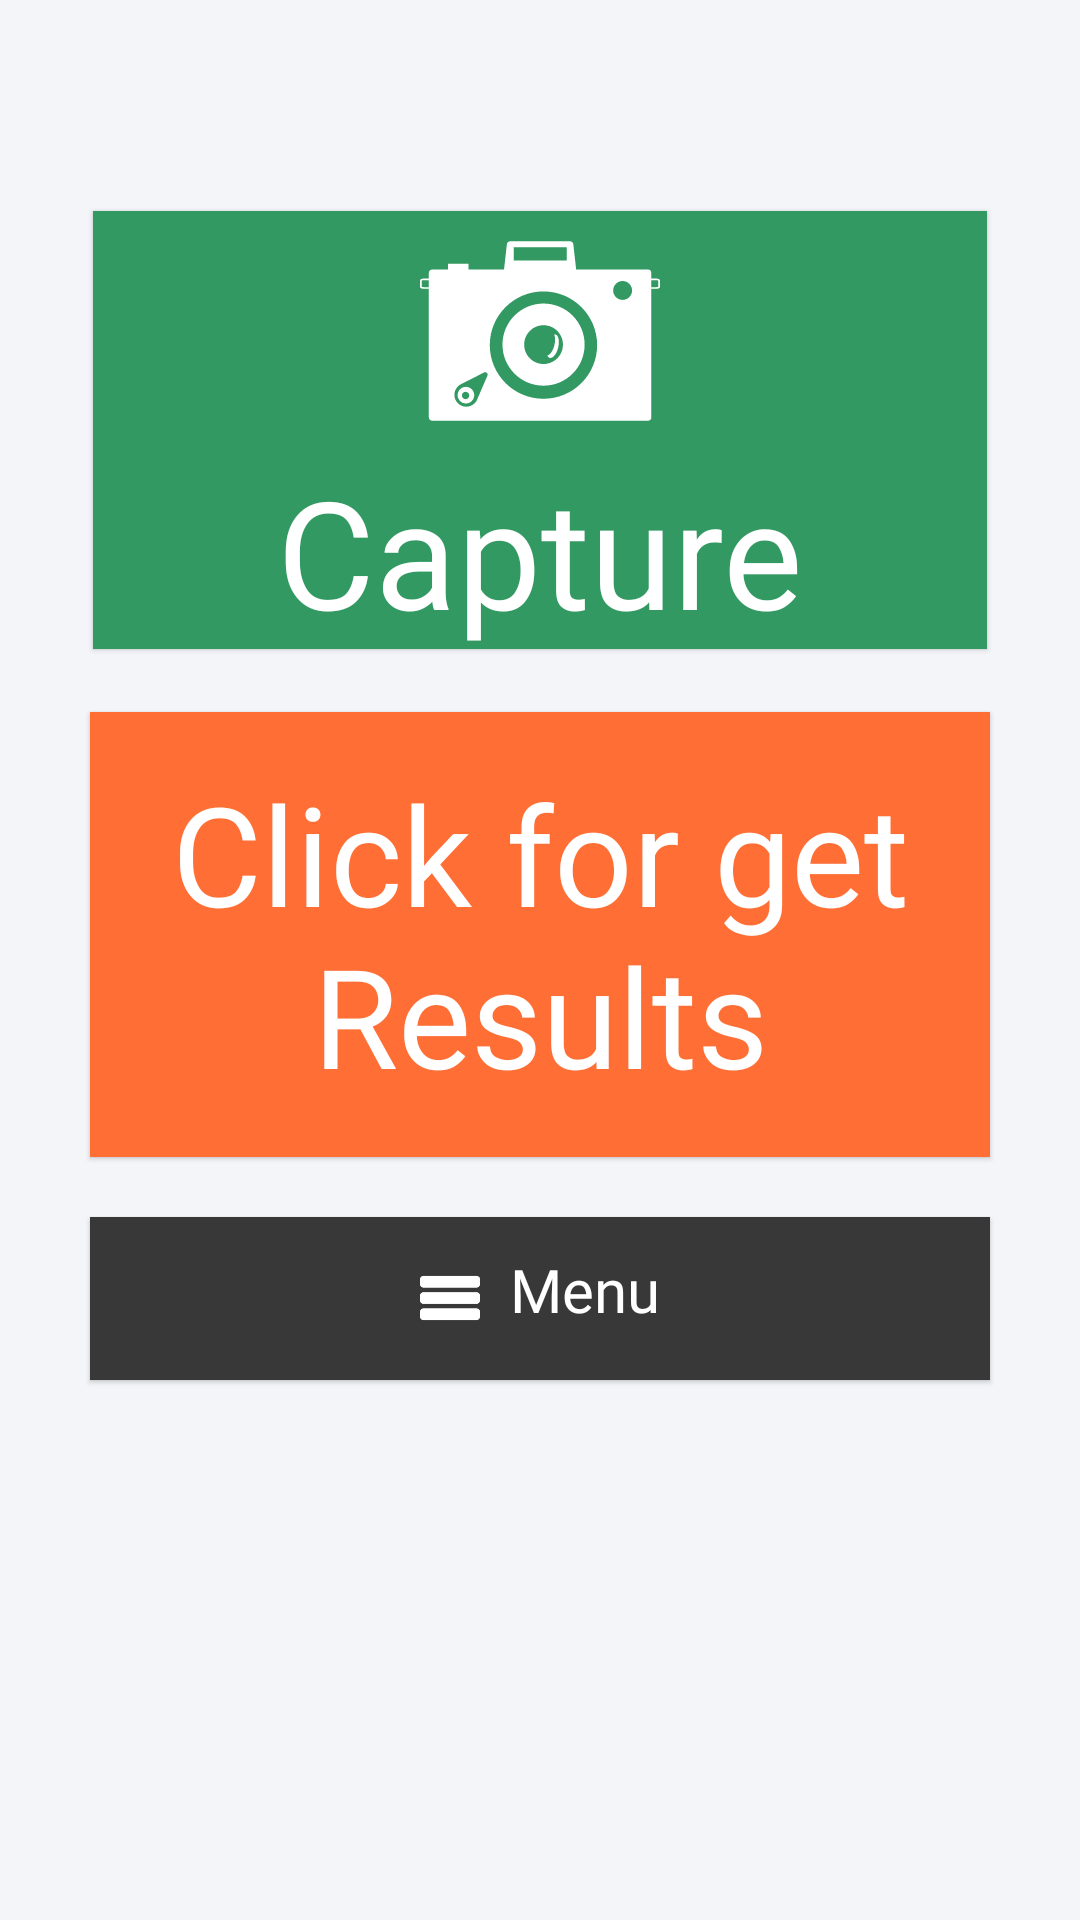

Icon bounding boxes for this 1080 x 1920 phone screenshot, format (x1, y1, x2, y2):
camera: (420, 241, 660, 421)
